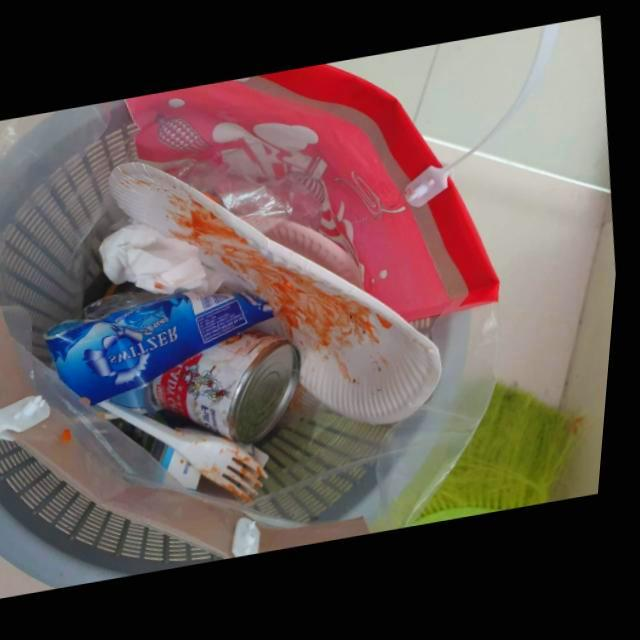aluminum: (157, 334, 307, 446)
paper: (113, 160, 449, 427), (104, 225, 229, 296)
